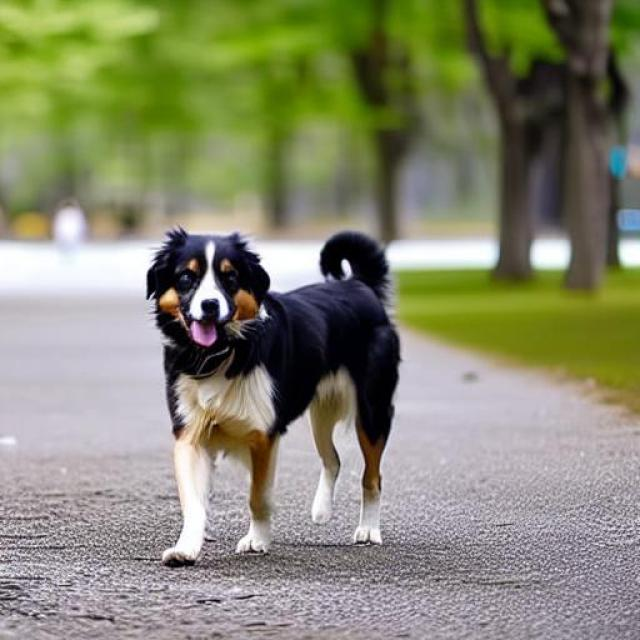Dog: (146, 222, 402, 567)
